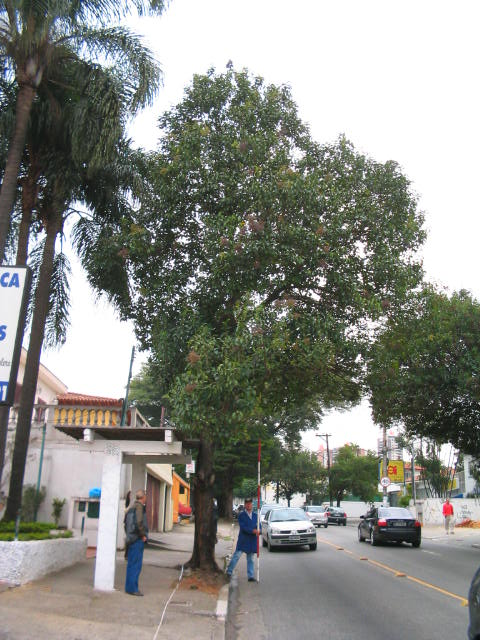crown: (81, 59, 428, 446), (371, 287, 480, 459)
stem: (178, 450, 231, 574)
stick: (248, 442, 269, 581)
tree: (78, 57, 430, 575)
